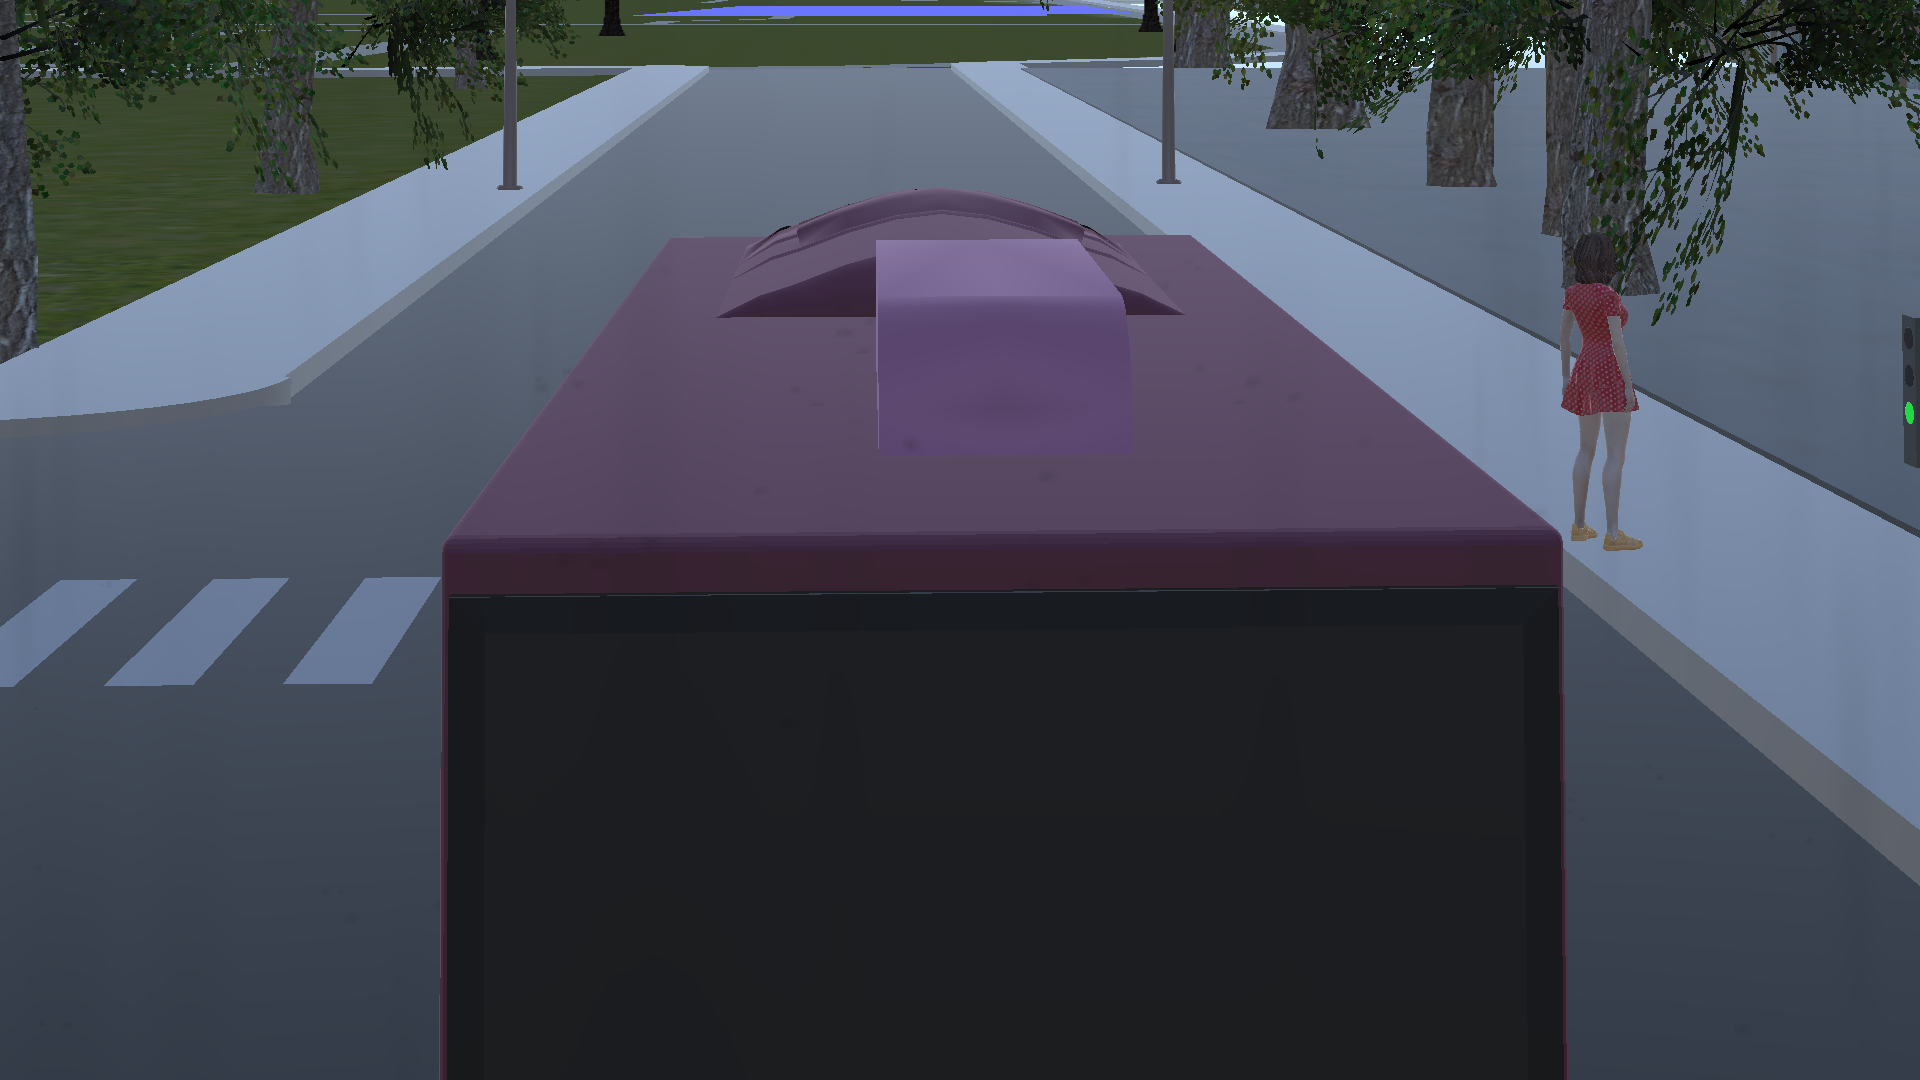pedestrian: (1551, 206, 1670, 586)
